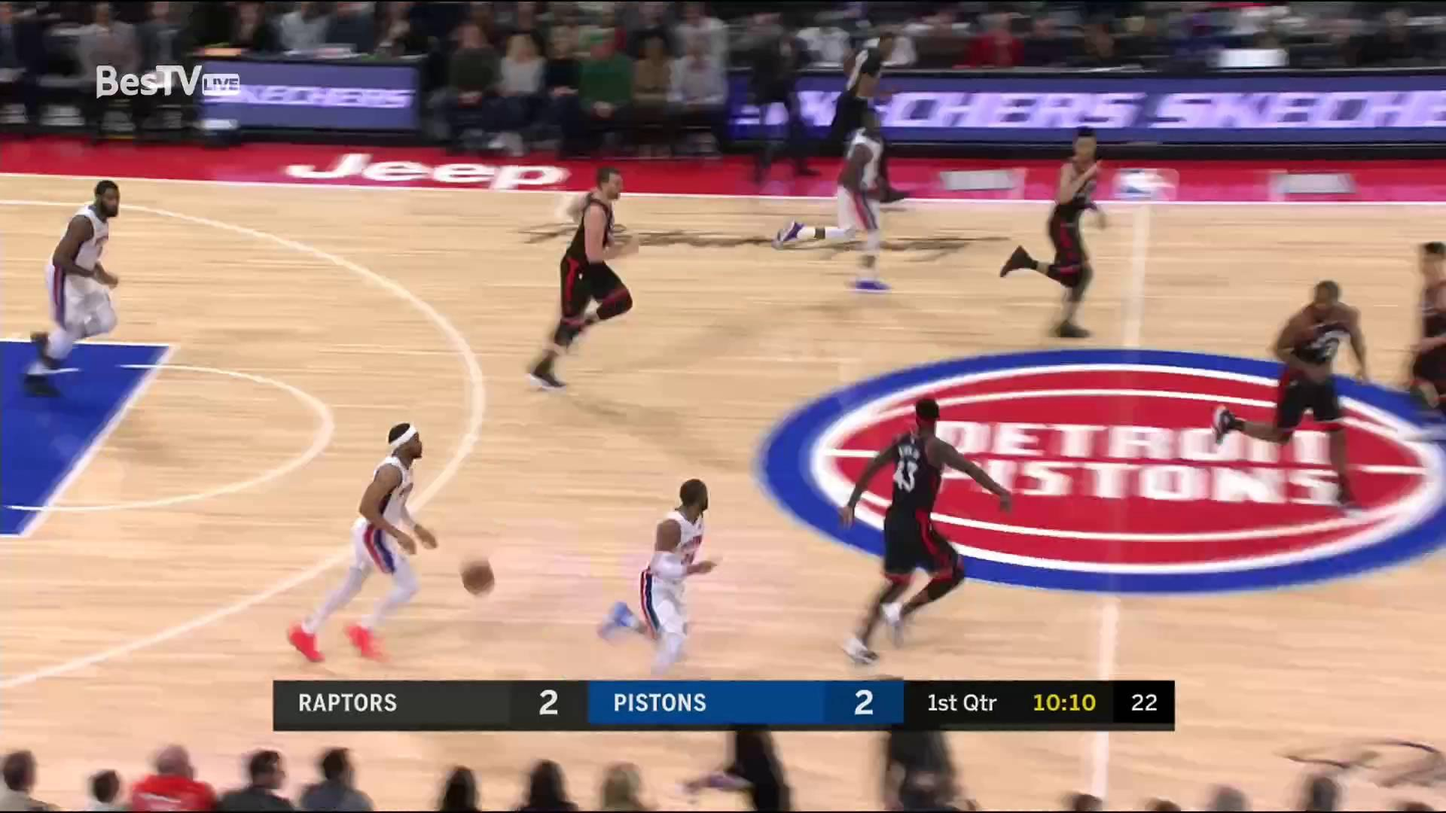basketball: (456, 558, 496, 598)
